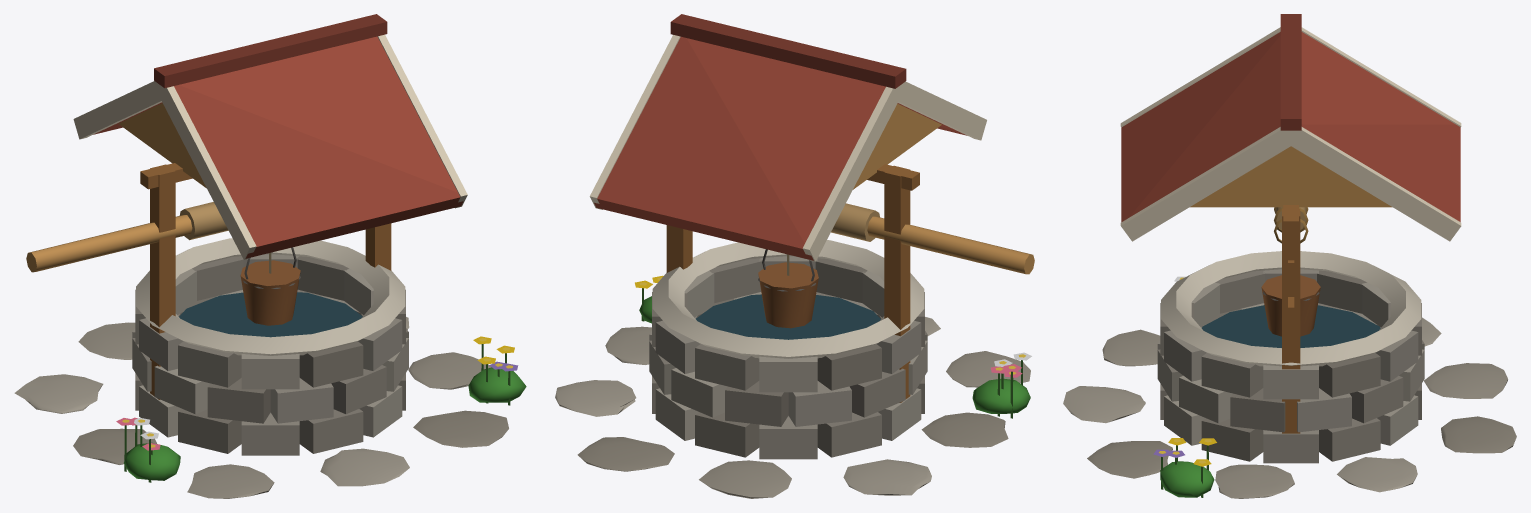
The model's file is well-3.glb.
3 renders of one model, left to right at view 1: azimuth 30°, elevation 25°; view 2: azimuth 150°, elevation 25°; view 3: azimuth 270°, elevation 25°, orthographic. The views are drawn at different scales.
Visible parts, largest first — view 1: building-well-3; view 2: building-well-3; view 3: building-well-3.
Boxes of the visible parts, x1,y1,x2,y2 form: building-well-3: (14,14,526,498); building-well-3: (555,14,1034,498); building-well-3: (1063,14,1516,498).
Bounding box in the file's own units: 3.77 × 2.92 × 3.5.
